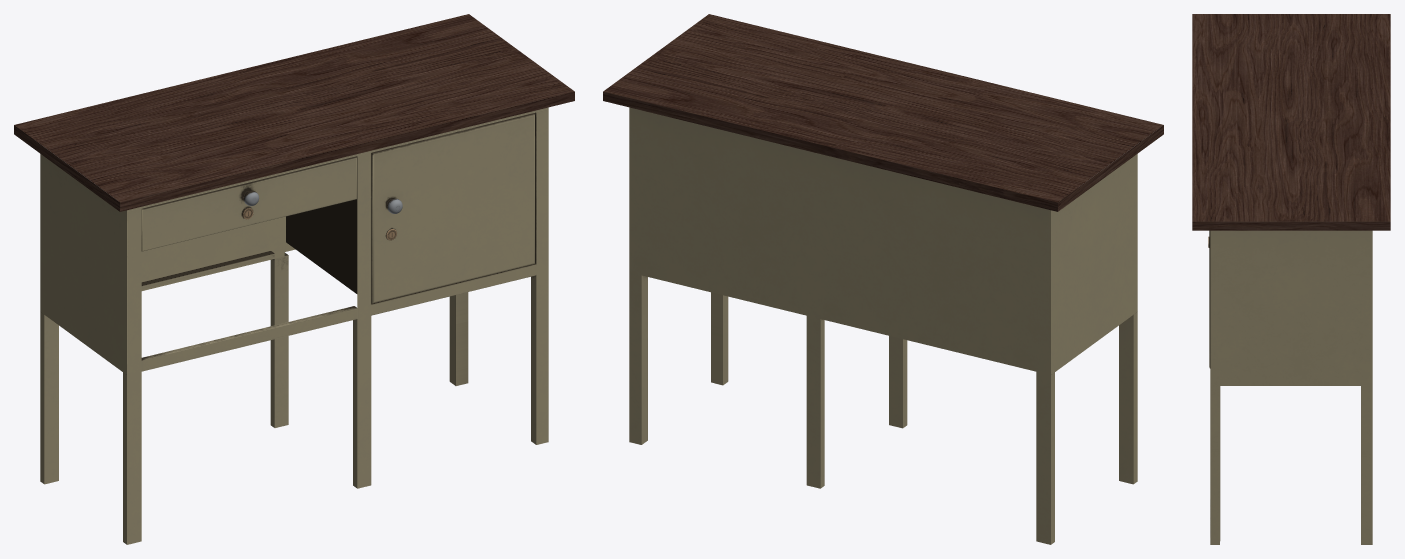
File: table___school_office_-_7_mb.glb
The picture shows the model from 3 angles, left to right: view 1: azimuth 30°, elevation 25°; view 2: azimuth 150°, elevation 25°; view 3: azimuth 270°, elevation 25°; orthographic projection. The views are drawn at different scales.
Visible parts, largest first — view 1: 01__0; view 2: 01__0; view 3: 01__0.
Boxes of the visible parts, x1=… form: 01__0: x1=14, y1=14, x2=574, y2=544; 01__0: x1=603, y1=14, x2=1163, y2=544; 01__0: x1=1192, y1=14, x2=1390, y2=544.
Size of the model in its own units: 1.24 by 0.9194 by 0.4996.
Materials: 1 (1 with a texture image).
